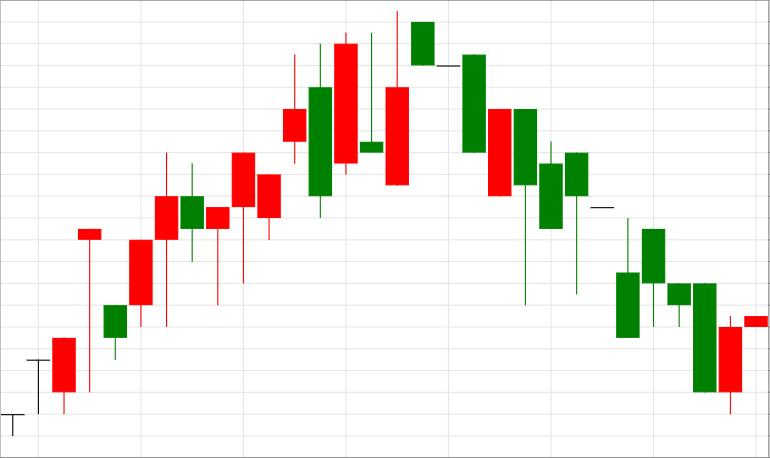bearish_engulfing_fall: (130, 43, 332, 327)
shooting_star_fall: (130, 55, 306, 328)
